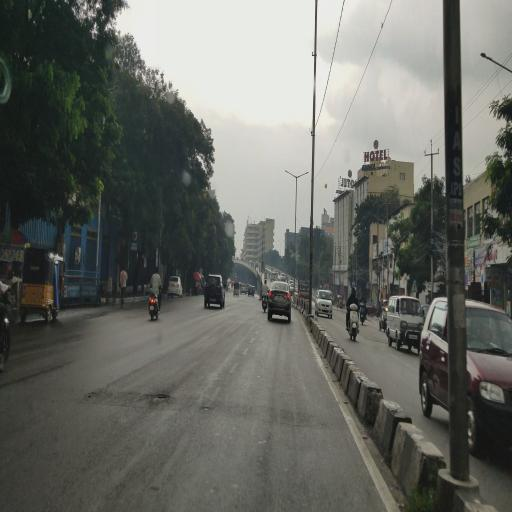street_light_0: (284, 164, 297, 186), (297, 169, 311, 183)
